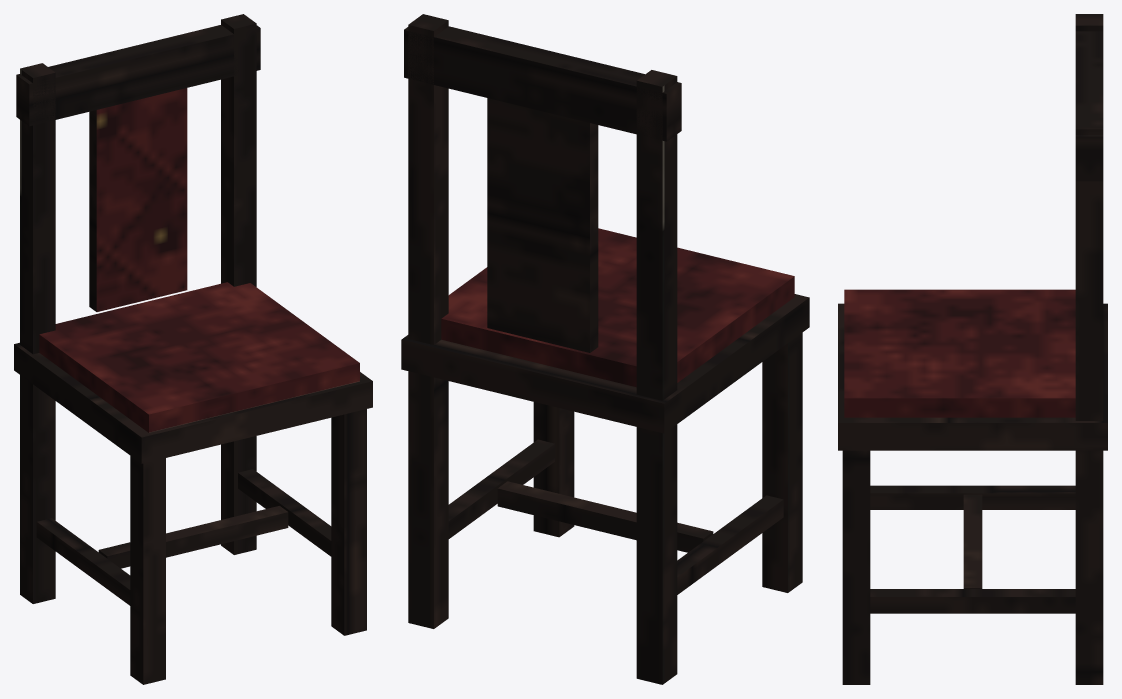
File: Furn_Chair_Dining.fbx
3 views of the same model, side by side, from view 1: azimuth 30°, elevation 25°; view 2: azimuth 150°, elevation 25°; view 3: azimuth 270°, elevation 25° (orthographic). The views are drawn at different scales.
Visible parts, largest first — view 1: Furn_Chair_Dining; view 2: Furn_Chair_Dining; view 3: Furn_Chair_Dining.
Part boxes in pixels (<box>): Furn_Chair_Dining: <box>14,14,372,684</box>; Furn_Chair_Dining: <box>401,14,809,684</box>; Furn_Chair_Dining: <box>838,14,1107,684</box>.
Size of the model in its own units: 0.46 by 1 by 0.44.
